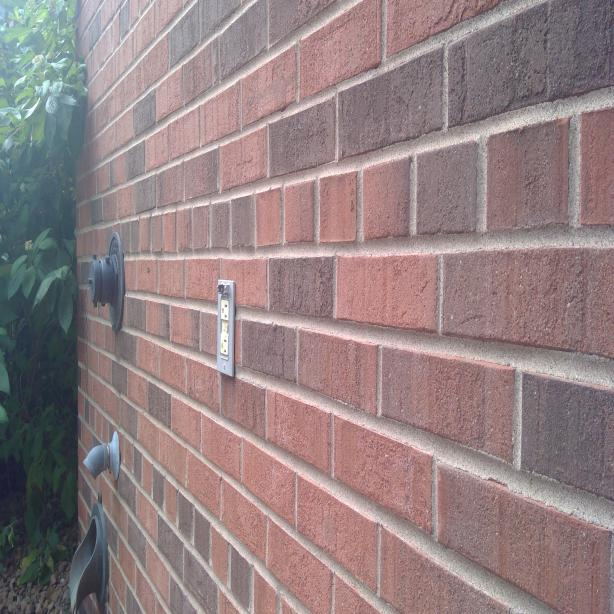typeb: (219, 299, 231, 322), (219, 336, 229, 356)
